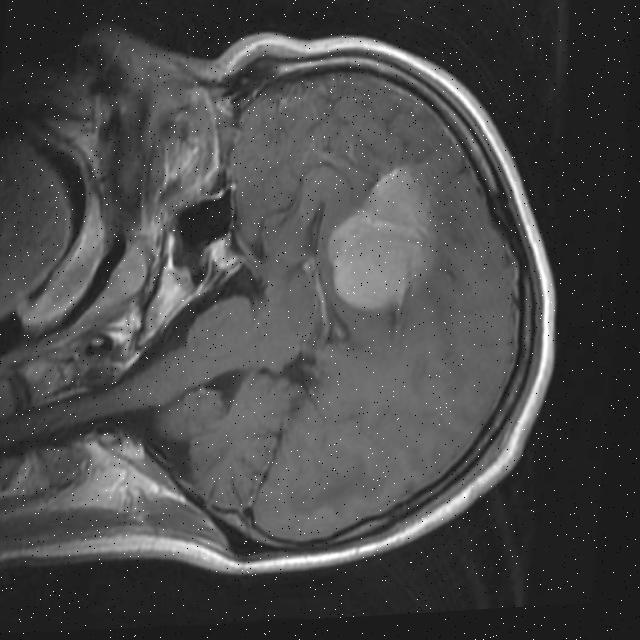Meningioma: (319, 160, 442, 315)
